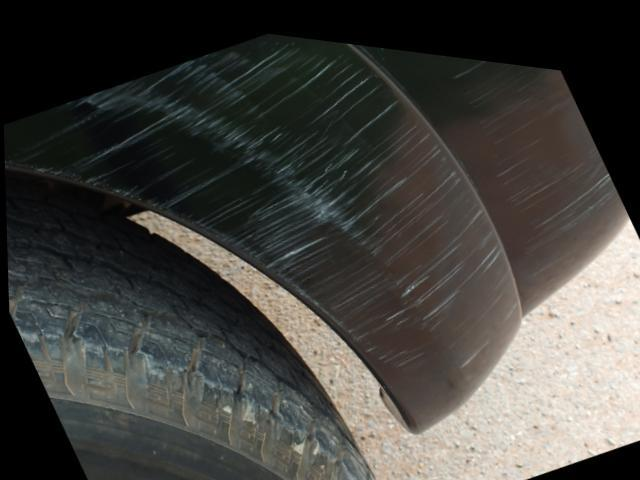scratch: (3, 35, 507, 368), (417, 41, 619, 250)
